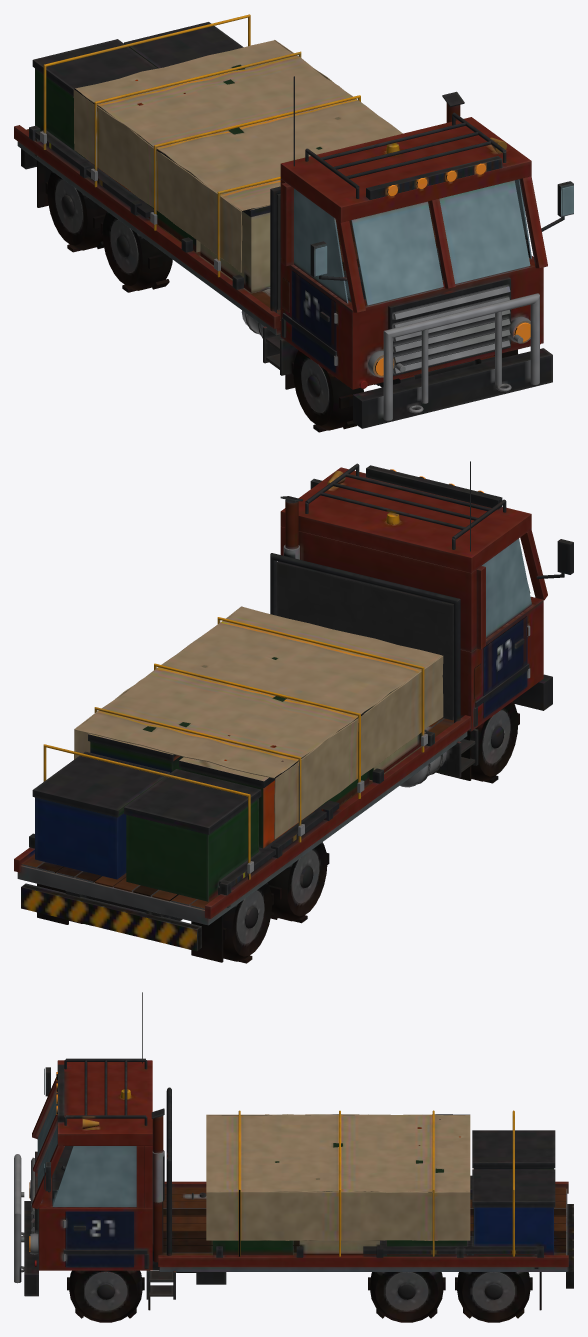
File: hauler.glb
The picture shows the model from 3 angles, top to bottom: view 1: azimuth 30°, elevation 25°; view 2: azimuth 150°, elevation 25°; view 3: azimuth 270°, elevation 25°; orthographic projection. The views are drawn at different scales.
Parts seen in each view (by area): view 1: hauler; view 2: hauler; view 3: hauler.
Part boxes in pixels (x1,y1,x2,y2): hauler: (14,14,573,432); hauler: (14,461,573,963); hauler: (14,992,573,1322).
Size of the model in its own units: 3.54 by 4.38 by 8.37.
Materials: 3 (3 with a texture image).
